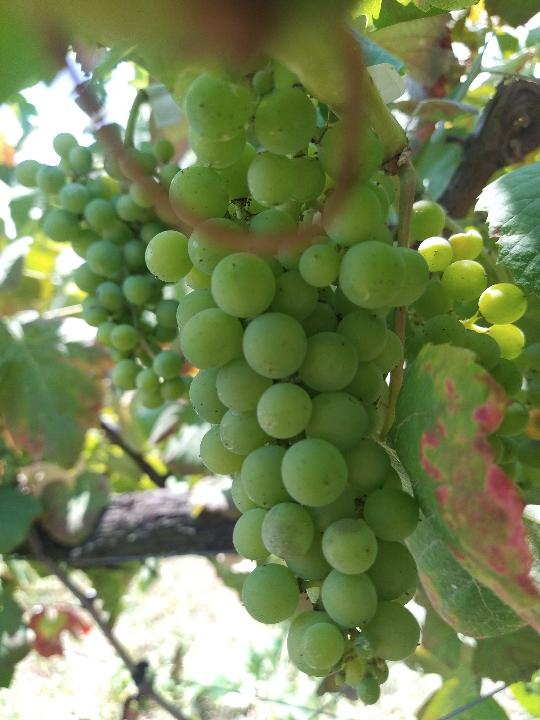grape: (140, 69, 436, 712)
